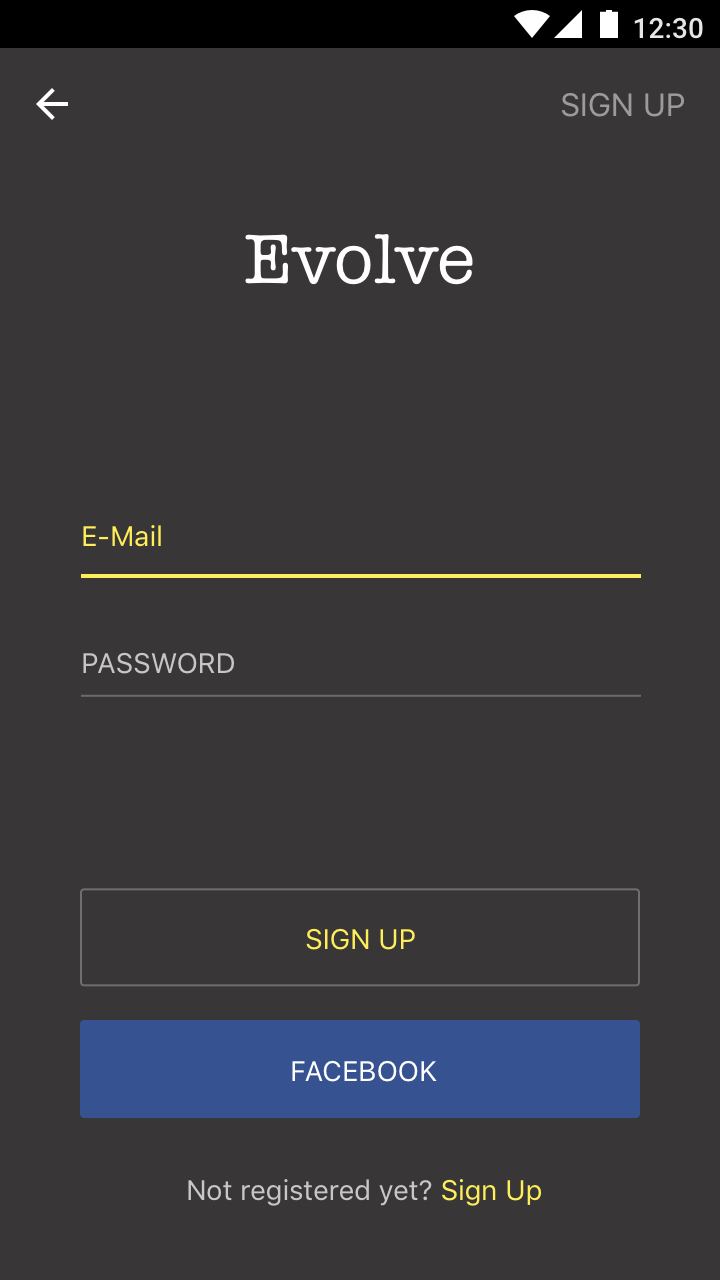EditText: (81, 524, 642, 579), (81, 652, 642, 699)
Icon: (36, 88, 70, 122)
Text: (245, 234, 474, 286), (188, 1178, 542, 1207), (83, 652, 235, 674), (561, 93, 685, 119), (84, 524, 163, 548)
TextButton: (80, 888, 641, 988), (80, 1020, 641, 1119)
UpperTaskBar: (1, 1, 720, 49)
